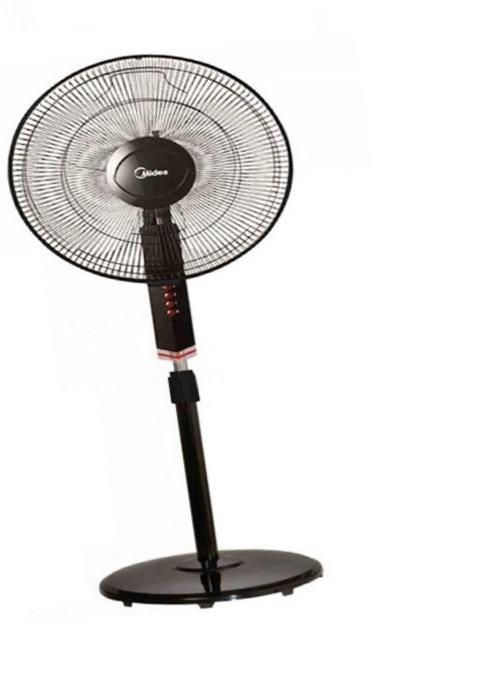fan: (0, 28, 328, 646)
